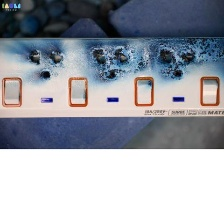three_eye_plug: (0, 33, 224, 123)
